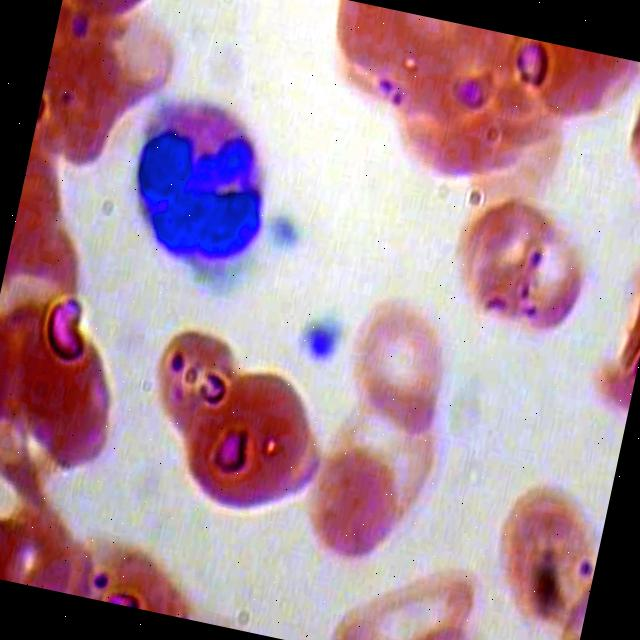Platelets: (252, 197, 312, 264), (291, 301, 350, 369)
RBC: (23, 0, 182, 201), (0, 281, 141, 485), (170, 357, 330, 530), (462, 468, 610, 636), (289, 430, 417, 588), (335, 288, 463, 446), (436, 182, 564, 340), (320, 542, 487, 640), (138, 322, 250, 456), (309, 0, 450, 97), (506, 218, 602, 356), (517, 38, 640, 132), (591, 223, 640, 420), (57, 0, 178, 39), (611, 61, 640, 219)
WBC: (106, 69, 286, 292)
